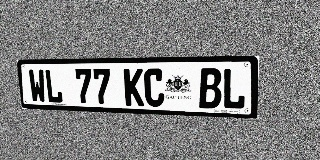7: (74, 69, 94, 105), (92, 69, 112, 105)
B: (199, 68, 222, 109)
C: (144, 68, 165, 107)
K: (124, 69, 144, 106)
L: (222, 68, 246, 110), (44, 69, 63, 104)
W: (28, 69, 47, 103)
